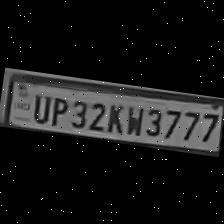2: (85, 96, 108, 132)
3: (66, 94, 90, 128), (142, 103, 164, 137)
7: (178, 106, 200, 142), (160, 105, 182, 140), (196, 108, 218, 142)
K: (103, 99, 126, 134)
P: (48, 92, 70, 127)
U: (27, 89, 51, 123)
W: (122, 100, 146, 136)
